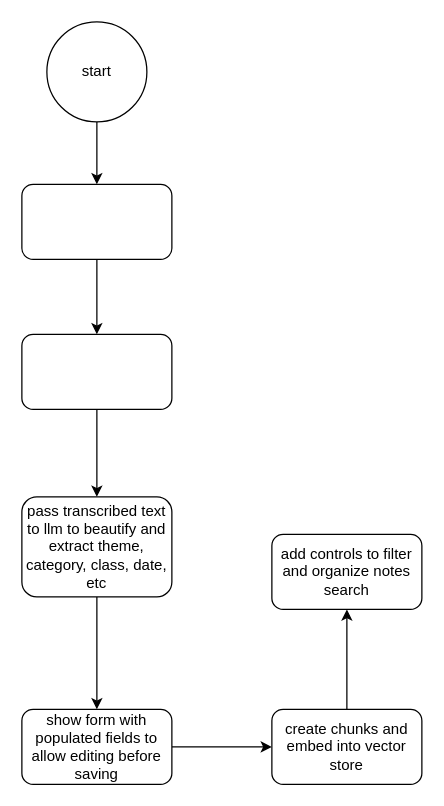
Image size: 444x806. Some labels were removed from this diagram. The centre of each missing label's shape, as x and y in pixels:
begin transcribing audio: (x=96, y=371)
User uploads/completes recording: (x=96, y=221)
